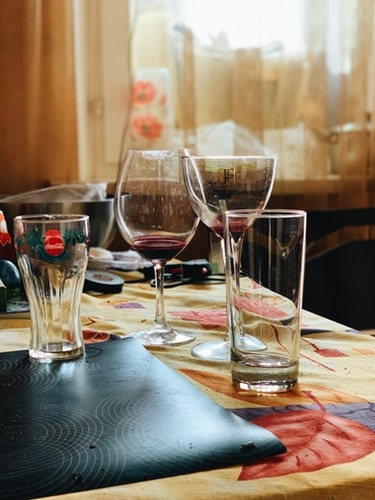whiskey: (221, 211, 313, 394), (17, 214, 87, 358)
